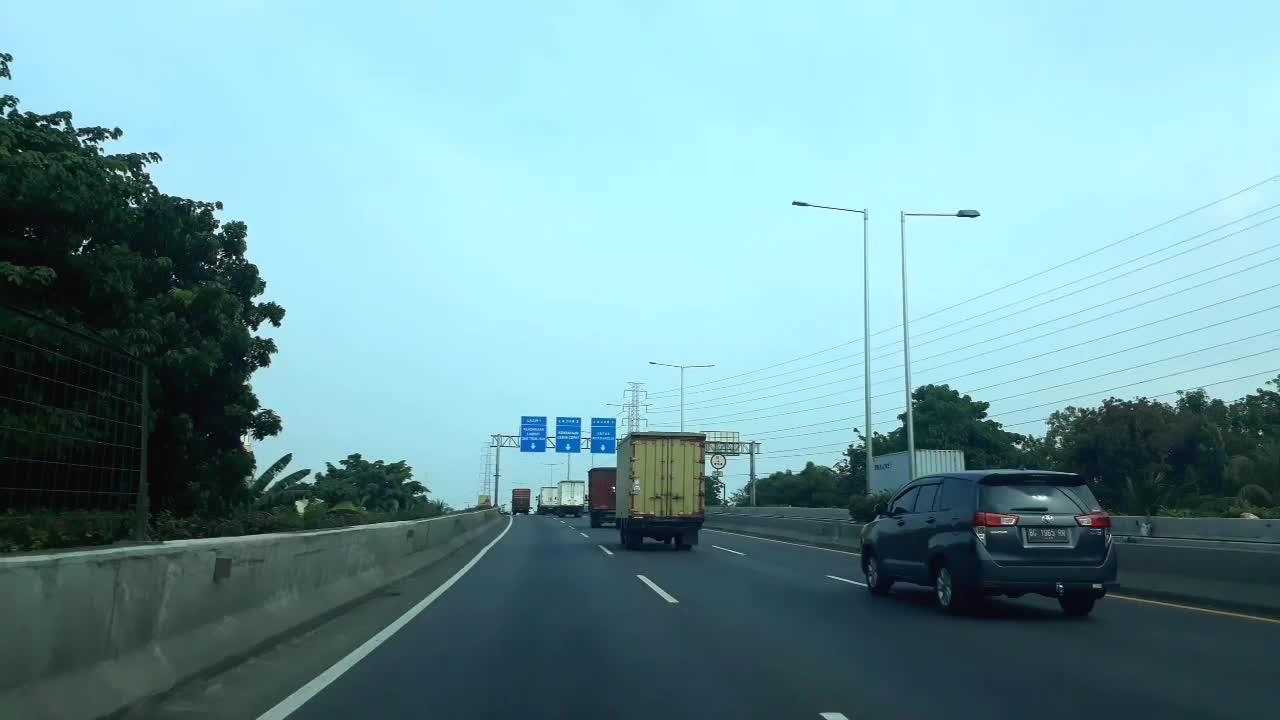plate_positive: (1025, 525, 1068, 544)
